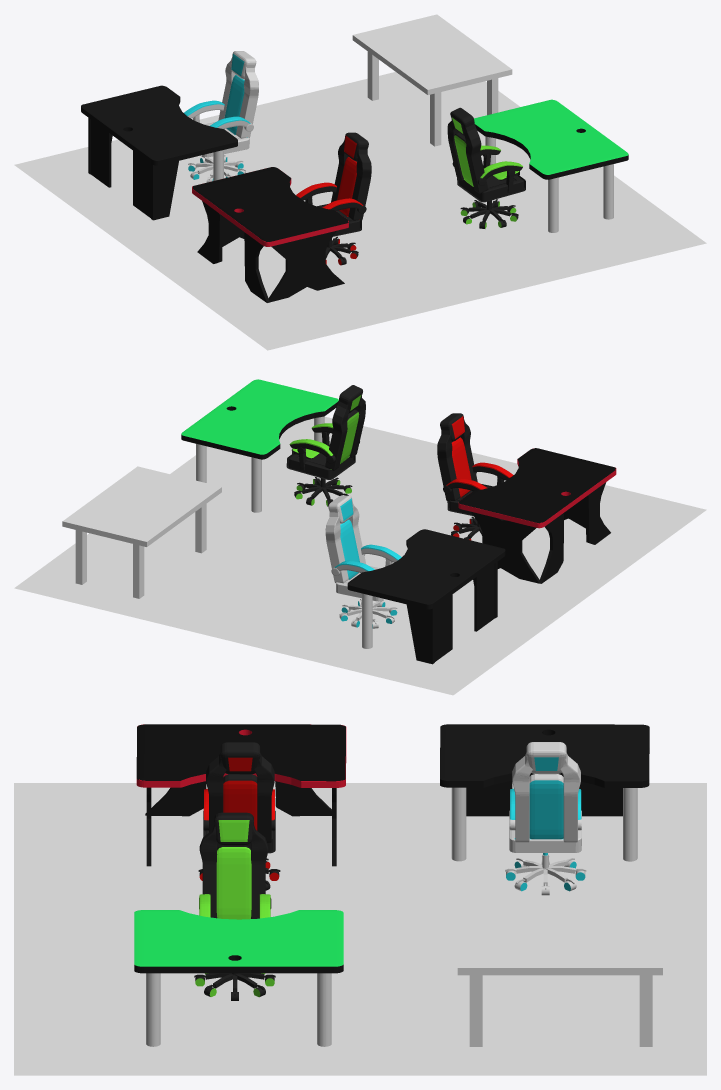
3 views of the same model, one above another, from view 1: azimuth 30°, elevation 25°; view 2: azimuth 150°, elevation 25°; view 3: azimuth 270°, elevation 25° (orthographic). The views are drawn at different scales.
Parts seen in each view (by area): view 1: Plane, Cube.004, Cube.006, Cube.011, Cube.005, Cube.001, Cube.003, Cube.002, Cube.012, Cube.007, Cube.010, Cube.009 (+4 smaller); view 2: Plane, Cube.004, Cube.006, Cube.011, Cube.005, Cube.001, Cube.003, Cube.002, Cube.013, Cube.008, Cube.009, Cube.010 (+4 smaller); view 3: Plane, Cube.004, Cube.005, Cube.011, Cube.006, Cube.003, Cube.001, Cube.002, Cube.009, Cube.015, Cube.014, Cube.010 (+4 smaller).
Boxes of the visible parts, x1,y1,x2,y2 form: Plane: (14, 72, 706, 350); Cube.004: (352, 14, 512, 146); Cube.006: (81, 85, 237, 165); Cube.011: (192, 167, 348, 246); Cube.005: (474, 99, 628, 179); Cube.001: (447, 107, 525, 228); Cube.003: (184, 51, 258, 182); Cube.002: (296, 132, 371, 265); Cube.012: (268, 230, 344, 302); Cube.007: (151, 161, 178, 220); Cube.010: (91, 120, 111, 187); Cube.009: (133, 151, 150, 217); Plane: (14, 416, 706, 695); Cube.004: (62, 466, 221, 598); Cube.006: (347, 529, 505, 609); Cube.011: (458, 448, 616, 528); Cube.005: (181, 379, 338, 459); Cube.001: (286, 385, 365, 506); Cube.003: (325, 495, 401, 628); Cube.002: (437, 413, 513, 540); Cube.013: (471, 511, 539, 583); Cube.008: (406, 604, 434, 664); Cube.009: (474, 564, 494, 631); Cube.010: (435, 594, 452, 661); Plane: (14, 783, 706, 1075); Cube.004: (457, 911, 662, 1046); Cube.005: (134, 910, 343, 973); Cube.011: (136, 724, 346, 787); Cube.006: (440, 724, 649, 787); Cube.003: (505, 742, 586, 895); Cube.001: (194, 812, 275, 1000); Cube.002: (198, 742, 280, 890); Cube.009: (466, 781, 512, 816); Cube.015: (275, 781, 331, 816); Cube.014: (145, 781, 206, 816); Cube.010: (579, 781, 622, 816).
Size of the model in its own units: 2000 by 492 by 2000.
